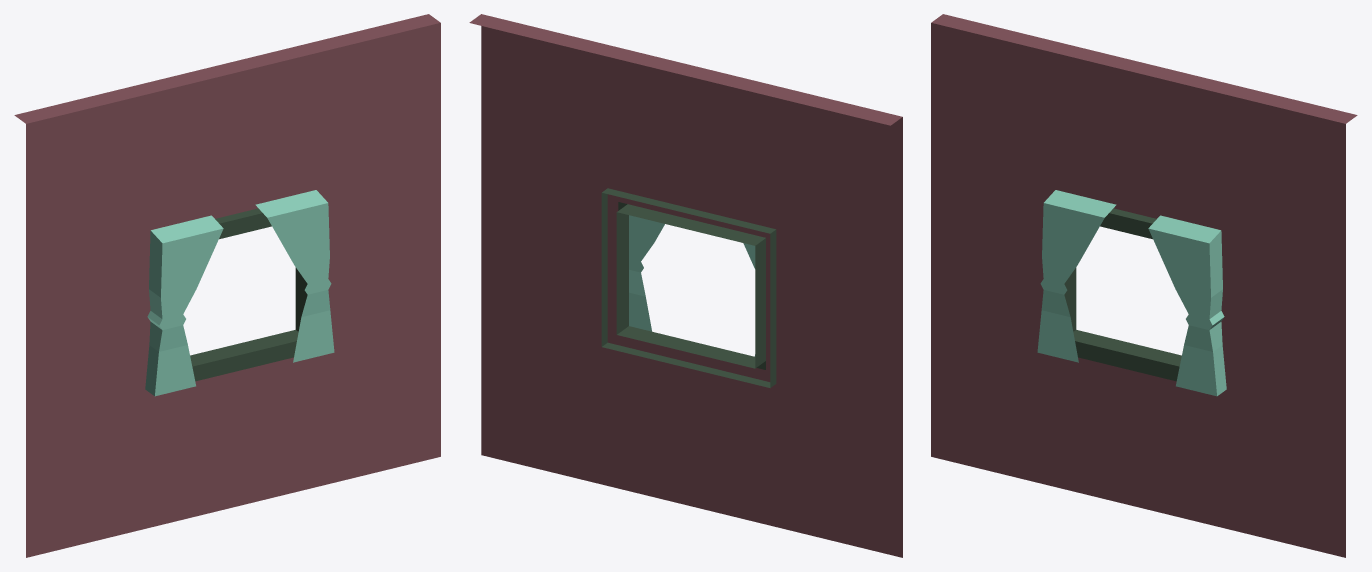
The model's file is Finestra_Muro_1.fbx.
3 views of the same model, side by side, from view 1: azimuth 30°, elevation 25°; view 2: azimuth 150°, elevation 25°; view 3: azimuth 330°, elevation 25° (orthographic).
Visible parts, largest first — view 1: Cube.029, Plane.004, Cube.027; view 2: Cube.029, Cube.027, Plane.004; view 3: Cube.029, Plane.004, Cube.027.
Boxes of the visible parts, <box> form: Cube.029: <box>14,14,440,557</box>; Plane.004: <box>145,190,334,396</box>; Cube.027: <box>190,208,307,381</box>; Cube.029: <box>469,14,902,557</box>; Cube.027: <box>601,188,776,387</box>; Plane.004: <box>629,215,755,356</box>; Cube.029: <box>931,14,1357,557</box>; Plane.004: <box>1037,190,1226,396</box>; Cube.027: <box>1064,208,1181,381</box>.
Bounding box in the file's own units: 400 × 400 × 40.
